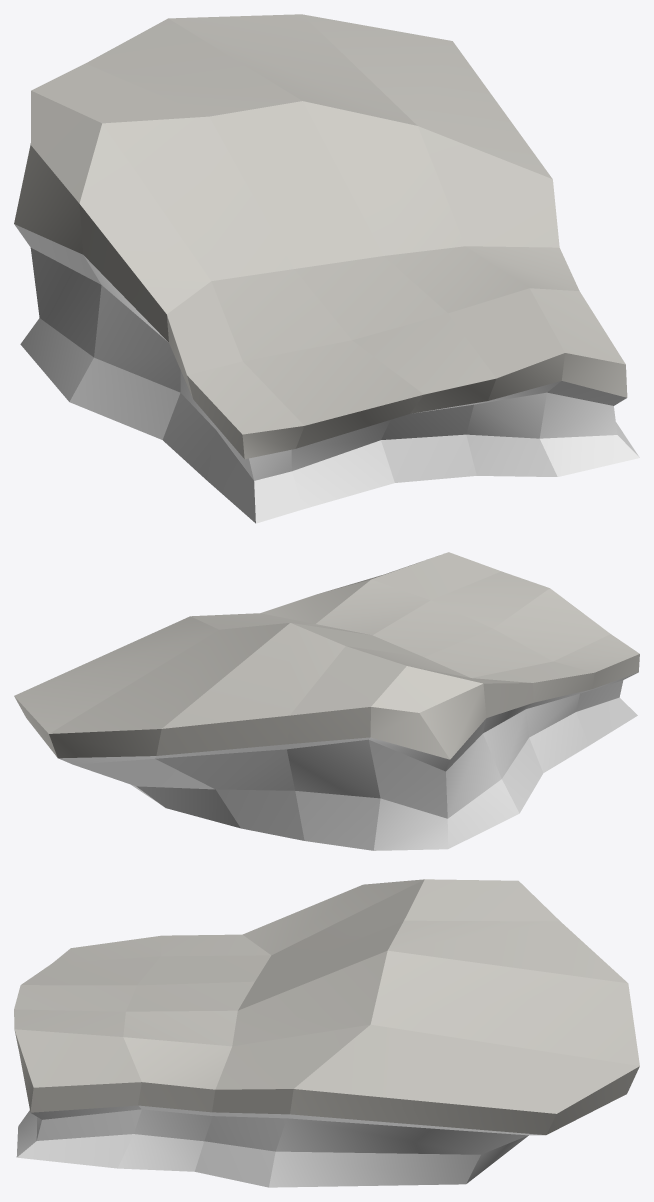
Rendered from christmasIslandBump.dae.
3 renders of one model, top to bottom at view 1: azimuth 30°, elevation 25°; view 2: azimuth 150°, elevation 25°; view 3: azimuth 270°, elevation 25°, orthographic. The views are drawn at different scales.
Visible parts, largest first — view 1: christmasIslandBump; view 2: christmasIslandBump; view 3: christmasIslandBump.
Part boxes in pixels (<box>): christmasIslandBump: <box>14,14,639,523</box>; christmasIslandBump: <box>14,552,639,850</box>; christmasIslandBump: <box>14,879,639,1187</box>.
Bounding box in the file's own units: 5.29 × 6.9 × 2.07.
Materials: 2 (1 with a texture image).
